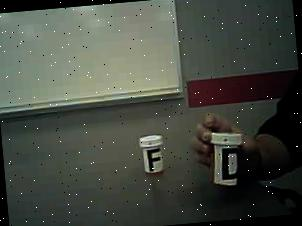Bottle D: (207, 125, 250, 190)
Bottle F: (136, 128, 174, 182)
